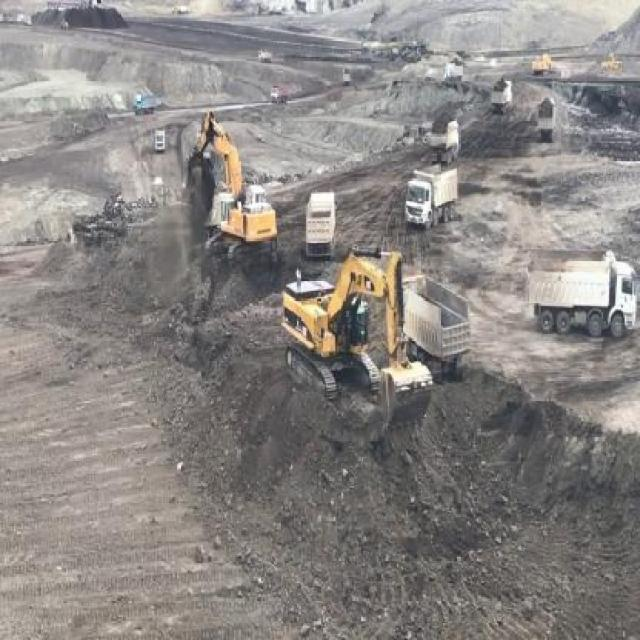Dump Truck: (524, 248, 636, 344), (402, 274, 472, 378), (403, 162, 459, 232), (304, 189, 336, 260), (430, 118, 459, 164), (491, 78, 514, 115), (538, 98, 554, 140), (133, 95, 156, 114), (270, 82, 288, 104), (442, 63, 464, 80)
Excavator: (283, 249, 434, 436), (182, 108, 278, 266)
